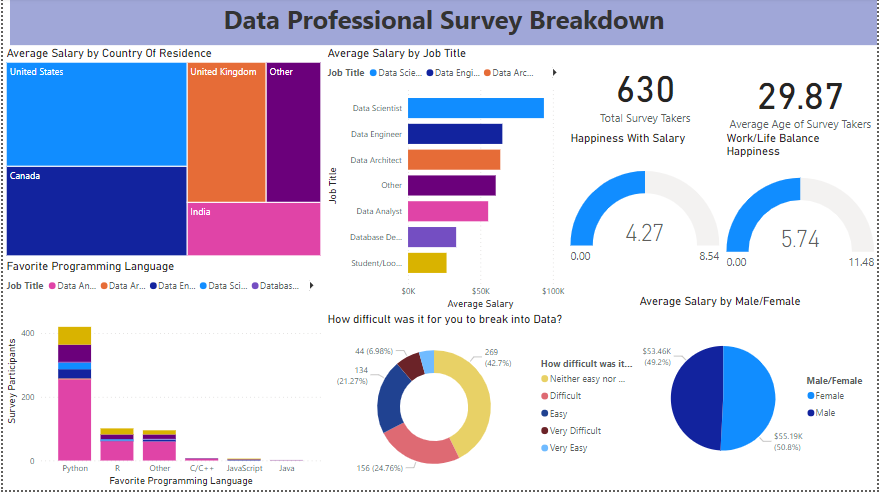

Layout of this report page (visuals, bound fields, positions):
{"tool":"powerbi","page":{"name":"Page 1","canvas":[1280,720],"ordinal":0},"visuals":[{"type":"textbox","box":[10.1,0,1269.9,68.9],"z":0},{"type":"card","fields":{"Values":["Count(Data Professional Survey.Unique ID)"]},"box":[827.2,69.7,226.4,134.1],"z":1000},{"type":"card","fields":{"Values":["Avg(Data Professional Survey.Q10 - Current Age)"]},"box":[1053.6,69.7,226.4,151.5],"z":2000},{"type":"barChart","title":"Average Salary by Job Title","fields":{"Y":["Avg(Data Professional Survey.Average Salary)"],"Category":["Data Professional Survey.Q1 - Which Title Best Fits your Current Role?.1"],"Series":["Data Professional Survey.Q1 - Which Title Best Fits your Current Role?.1"]},"box":[470.2,69.7,357,390.1],"z":3000},{"type":"columnChart","title":"Favorite Programming Language","fields":{"Category":["Data Professional Survey.Q5 - Favorite Programming Language.1"],"Y":["CountNonNull(Data Professional Survey.Unique ID)"],"Series":["Data Professional Survey.Q1 - Which Title Best Fits your Current Role?.1"]},"box":[0,381.4,470.2,337.9],"z":4000},{"type":"treemap","fields":{"Group":["Data Professional Survey.Q11 - Which Country do you live in?.1"],"Values":["Avg(Data Professional Survey.Average Salary)"]},"box":[0,69.7,470.2,311.7],"z":5000},{"type":"gauge","fields":{"Y":["Avg(Data Professional Survey.Q6 - How Happy are you in your Current Position with the following? (Salary))"]},"box":[825.4,194.6,228.2,238.2],"z":6000},{"type":"gauge","fields":{"Y":["Avg(Data Professional Survey.Q6 - How Happy are you in your Current Position with the following? (Work/Life Balance))"]},"box":[1053.5,194.6,226.5,238.2],"z":7000},{"type":"pieChart","fields":{"Y":["Avg(Data Professional Survey.Average Salary)"],"Category":["Data Professional Survey.Q9 - Male/Female?"]},"box":[926.5,433.6,353.5,285.6],"z":8000},{"type":"donutChart","title":"How difficult was it for you to break into Data?","fields":{"Category":["Data Professional Survey.Q7 - How difficult was it for you to break into Data?"],"Y":["CountNonNull(Data Professional Survey.Unique ID)"]},"box":[470.2,459.8,456.3,259.5],"z":9000}]}

Visuals, with their boxes in screenshot pixels (x1, y1, x2, y2), scaled from the page's 1280x720 canvas onto the 879x492 screenshot:
textbox: <region>7, 0, 878, 47</region>
card - Count(Data Professional Survey.Unique ID): <region>568, 48, 724, 139</region>
card - Avg(Data Professional Survey.Q10 - Current Age): <region>724, 48, 878, 151</region>
"Average Salary by Job Title" barChart: <region>323, 48, 568, 314</region>
"Favorite Programming Language" columnChart: <region>0, 261, 323, 491</region>
treemap - Data Professional Survey.Q11 - Which Country do you live in?.1 x Avg(Data Professional Survey.Average Salary): <region>0, 48, 323, 261</region>
gauge - Avg(Data Professional Survey.Q6 - How Happy are you in your Current Position with the following? (Salary)): <region>567, 133, 724, 296</region>
gauge - Avg(Data Professional Survey.Q6 - How Happy are you in your Current Position with the following? (Work/Life Balance)): <region>723, 133, 878, 296</region>
pieChart - Avg(Data Professional Survey.Average Salary) x Data Professional Survey.Q9 - Male/Female?: <region>636, 296, 878, 491</region>
"How difficult was it for you to break into Data?" donutChart: <region>323, 314, 636, 491</region>
